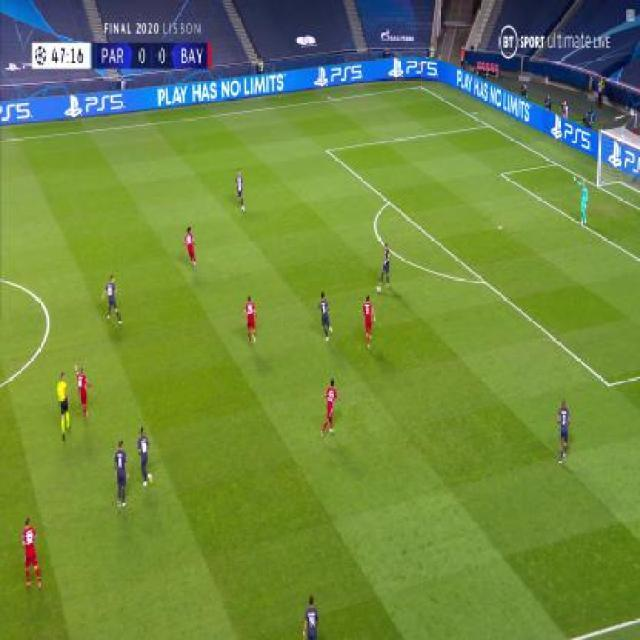ball: (376, 284, 381, 293)
player: (20, 516, 43, 593), (55, 370, 72, 441), (113, 439, 130, 510), (319, 378, 339, 438), (135, 426, 154, 489), (74, 364, 94, 421), (555, 397, 571, 466), (103, 273, 123, 326), (361, 294, 377, 351), (302, 595, 321, 640), (242, 294, 258, 347), (318, 291, 334, 339), (377, 242, 393, 290), (182, 225, 198, 270), (574, 176, 588, 225), (234, 169, 247, 212)
